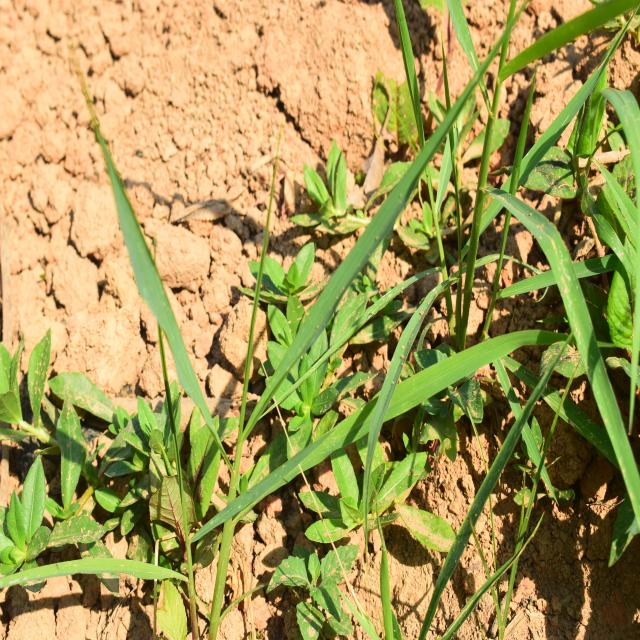green_foxtail: (118, 131, 420, 500), (405, 12, 585, 404)
